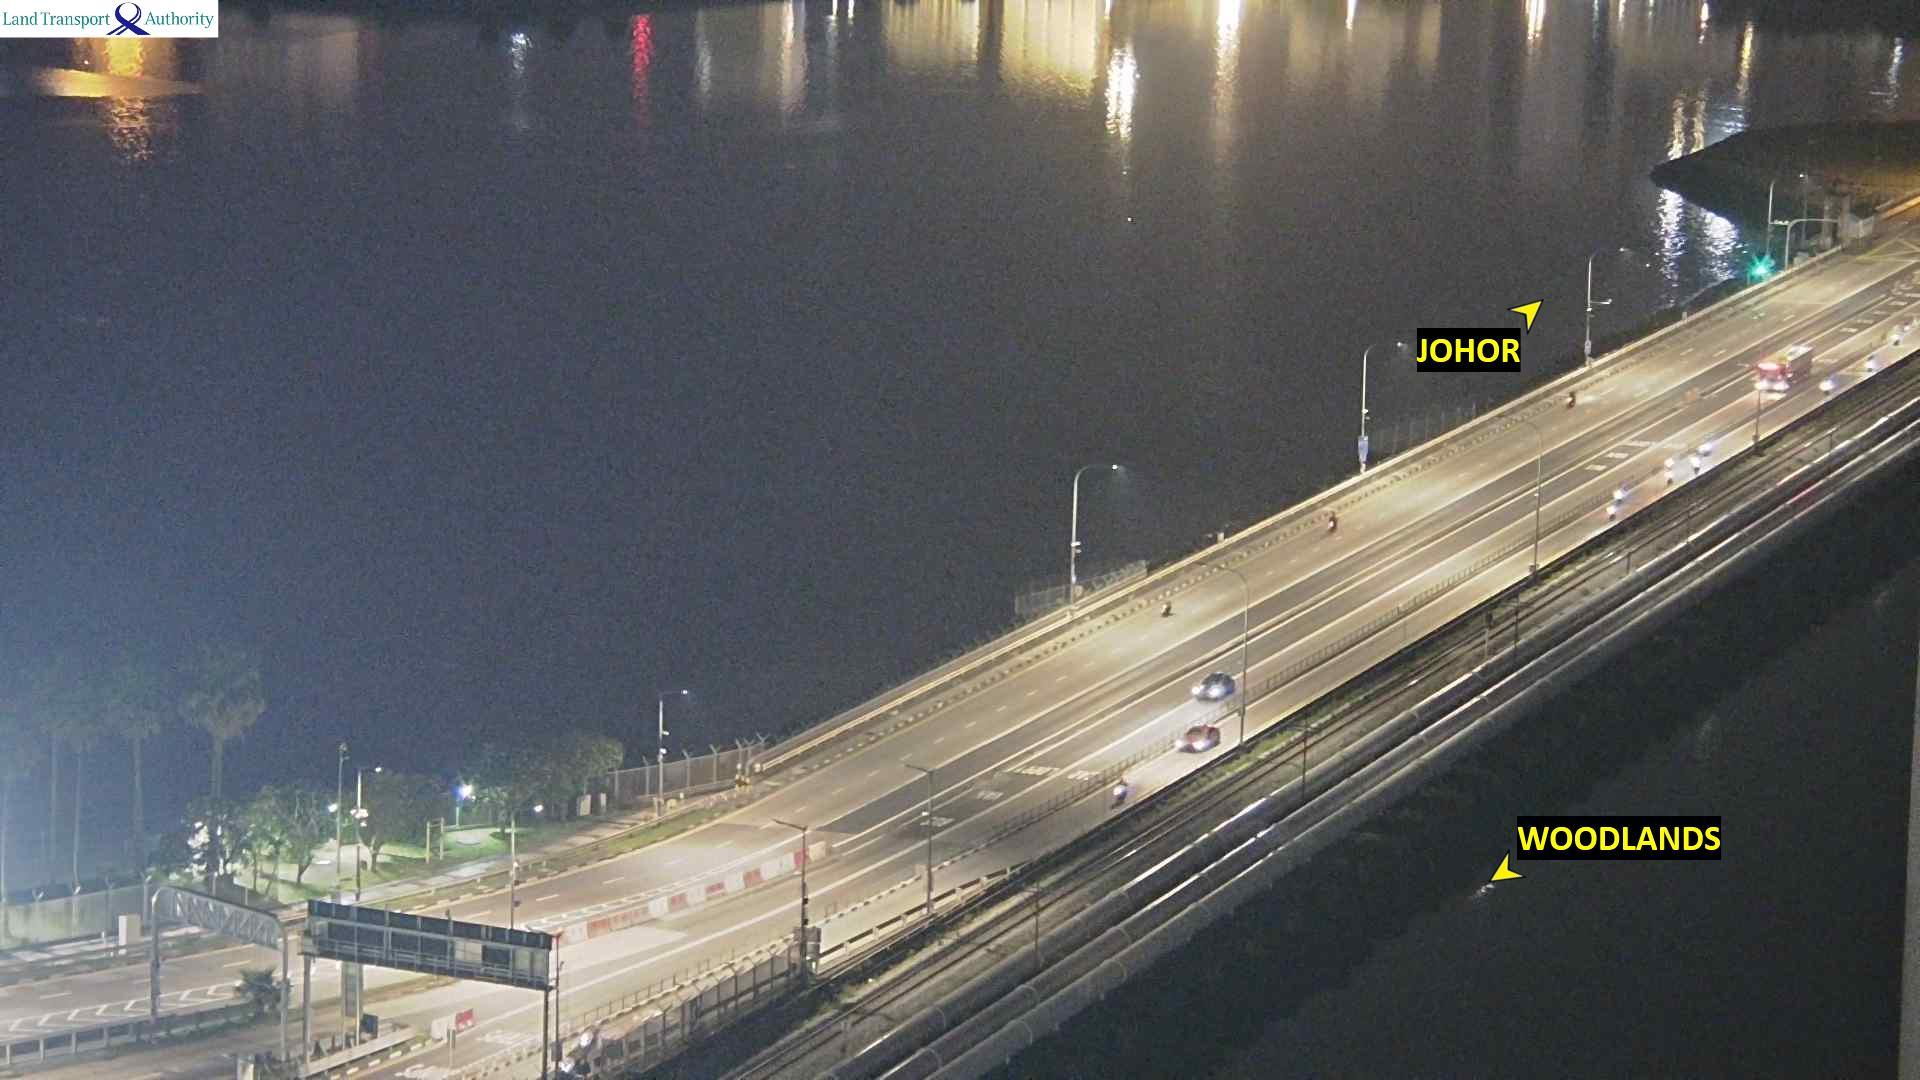vehicle-causeway-johor: (1328, 513, 1338, 531), (1569, 388, 1577, 406), (1162, 601, 1171, 613)
vehicle-causeway-singapore: (1760, 346, 1812, 393), (1179, 725, 1220, 750), (1196, 673, 1235, 698), (1114, 775, 1128, 803), (1699, 439, 1713, 454), (1665, 455, 1677, 471), (1614, 486, 1623, 501), (1692, 459, 1701, 474), (1867, 355, 1875, 371), (1824, 376, 1831, 393), (1608, 506, 1616, 518), (1664, 475, 1672, 486), (1893, 334, 1899, 348)
